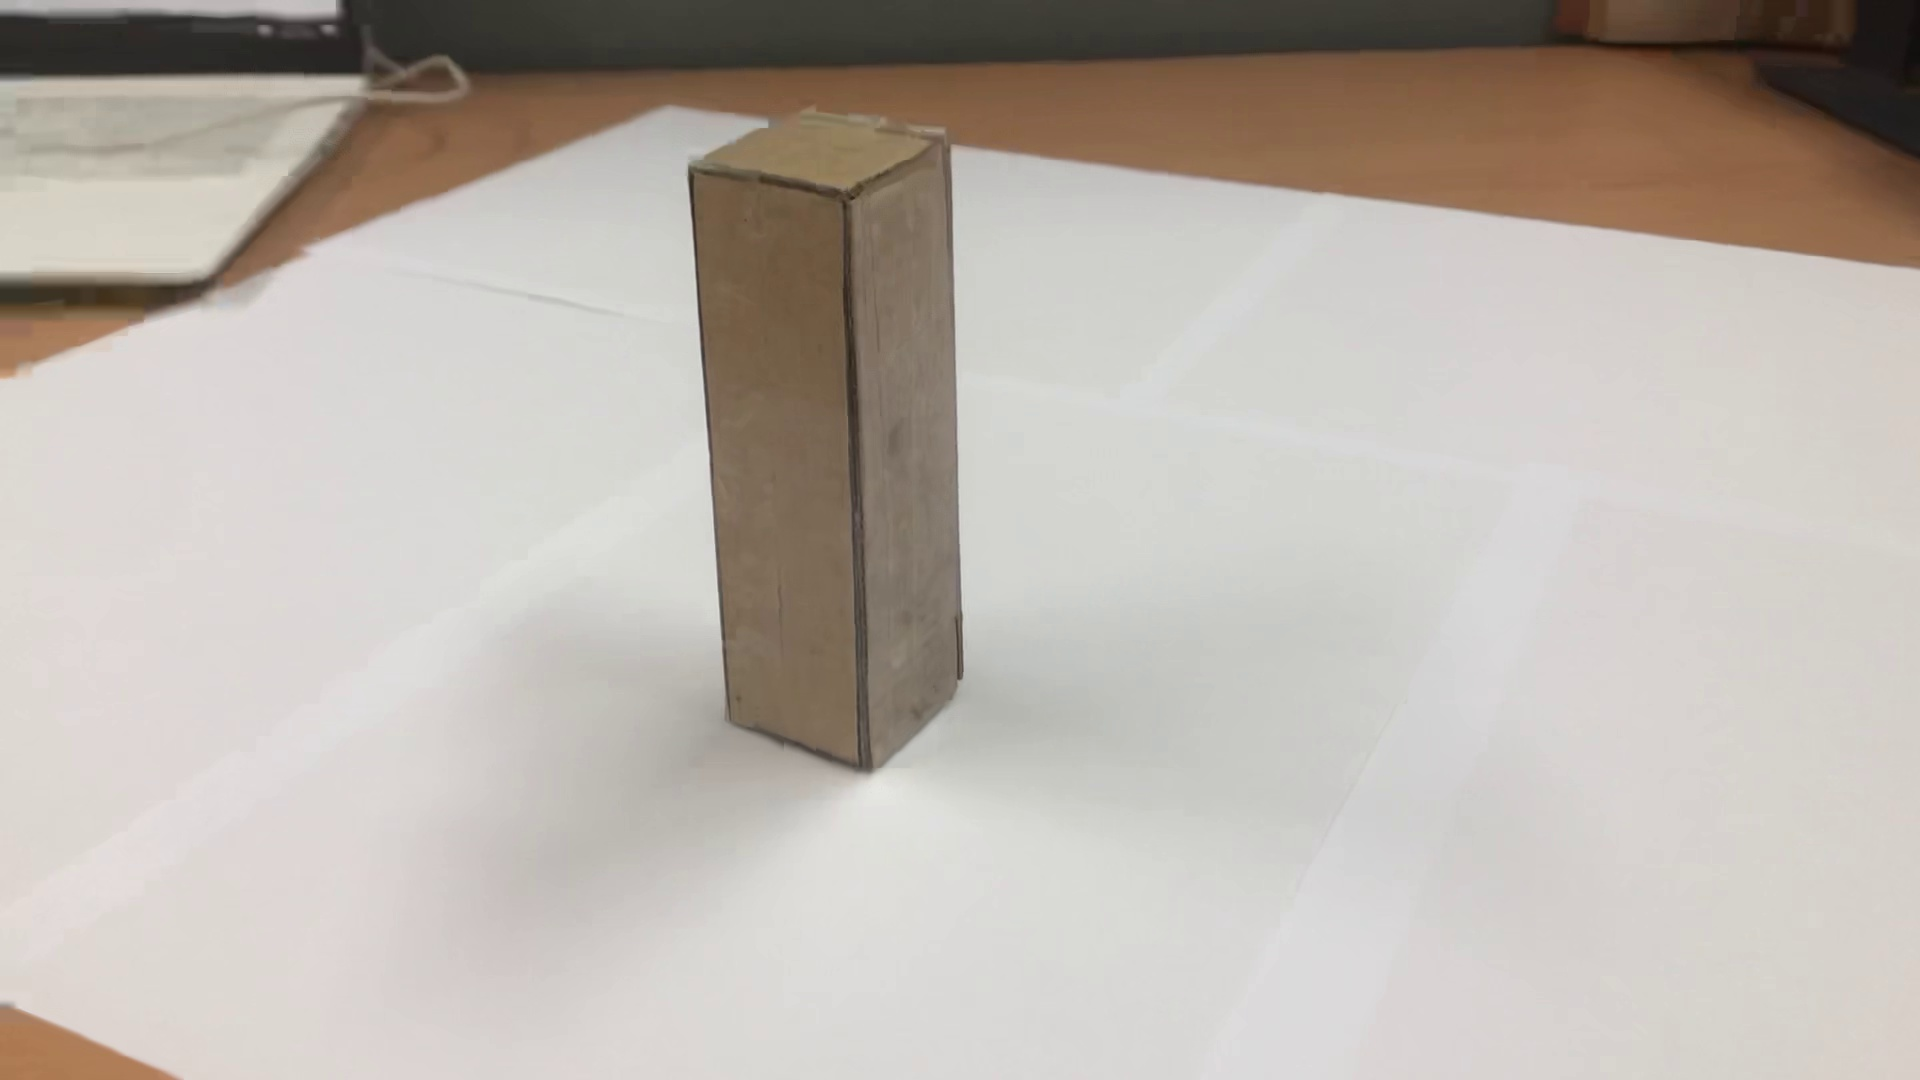box: (673, 88, 1022, 781)
